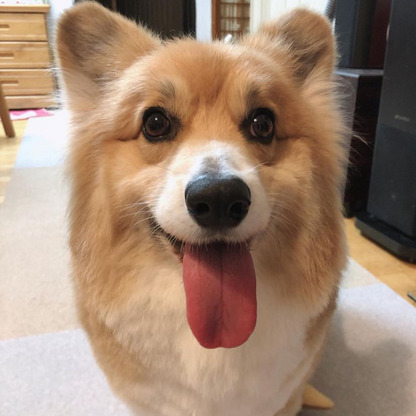Corgi: (50, 17, 384, 412)
